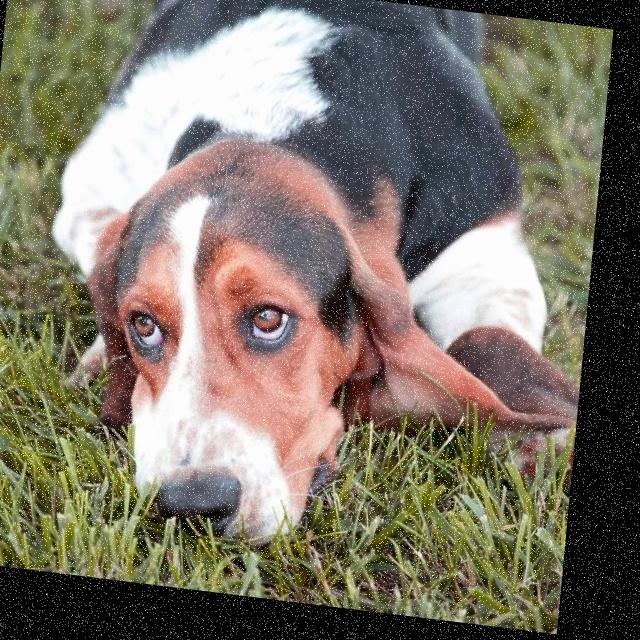dog: (11, 0, 562, 624)
